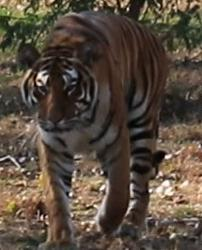tiger: (20, 11, 168, 249)
